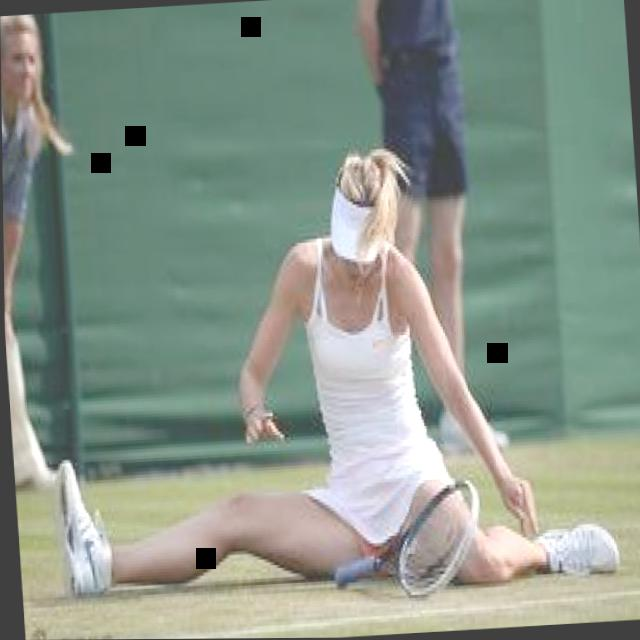Fall-Detected: (6, 99, 632, 608)
